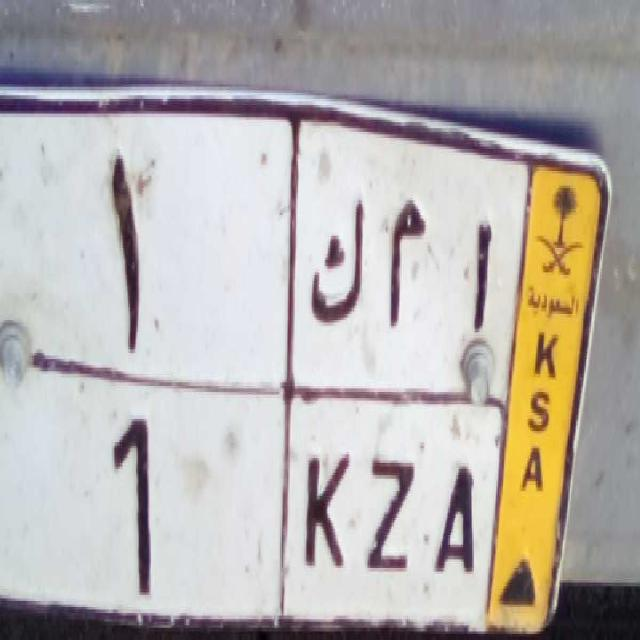license_plate: (0, 371, 499, 639)
